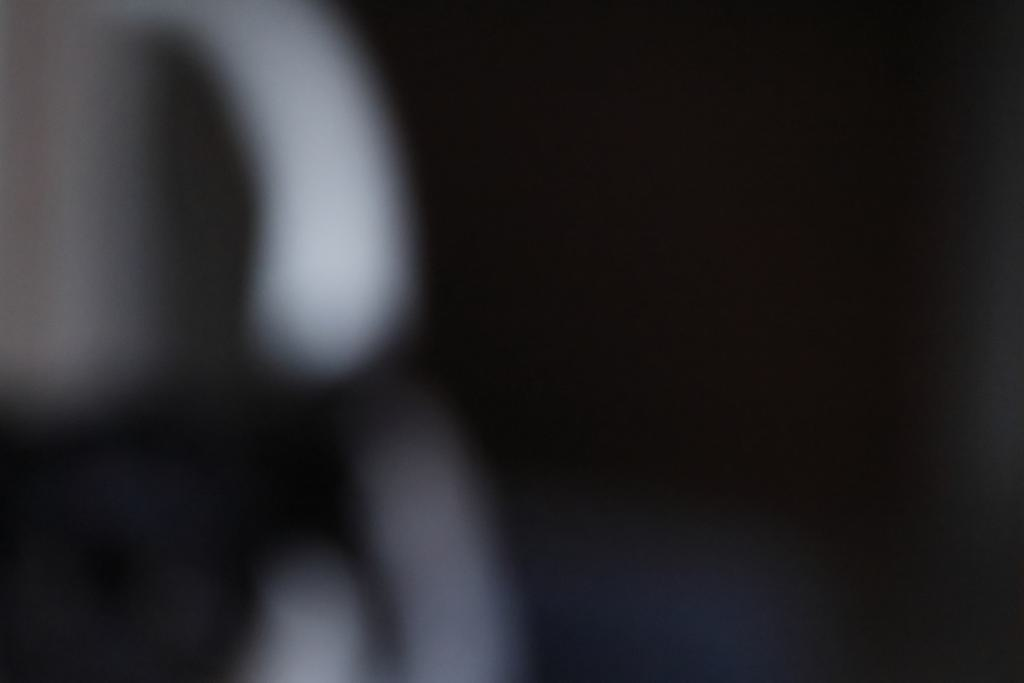Dog: (0, 0, 543, 683)
